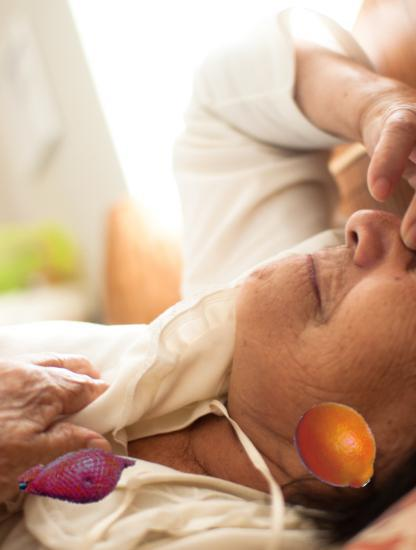Salak: (19, 417, 140, 538)
Tangelo: (291, 400, 385, 494)
